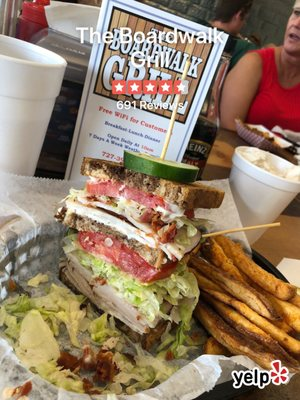soup: (57, 162, 214, 354)
sushi: (228, 145, 300, 227)
